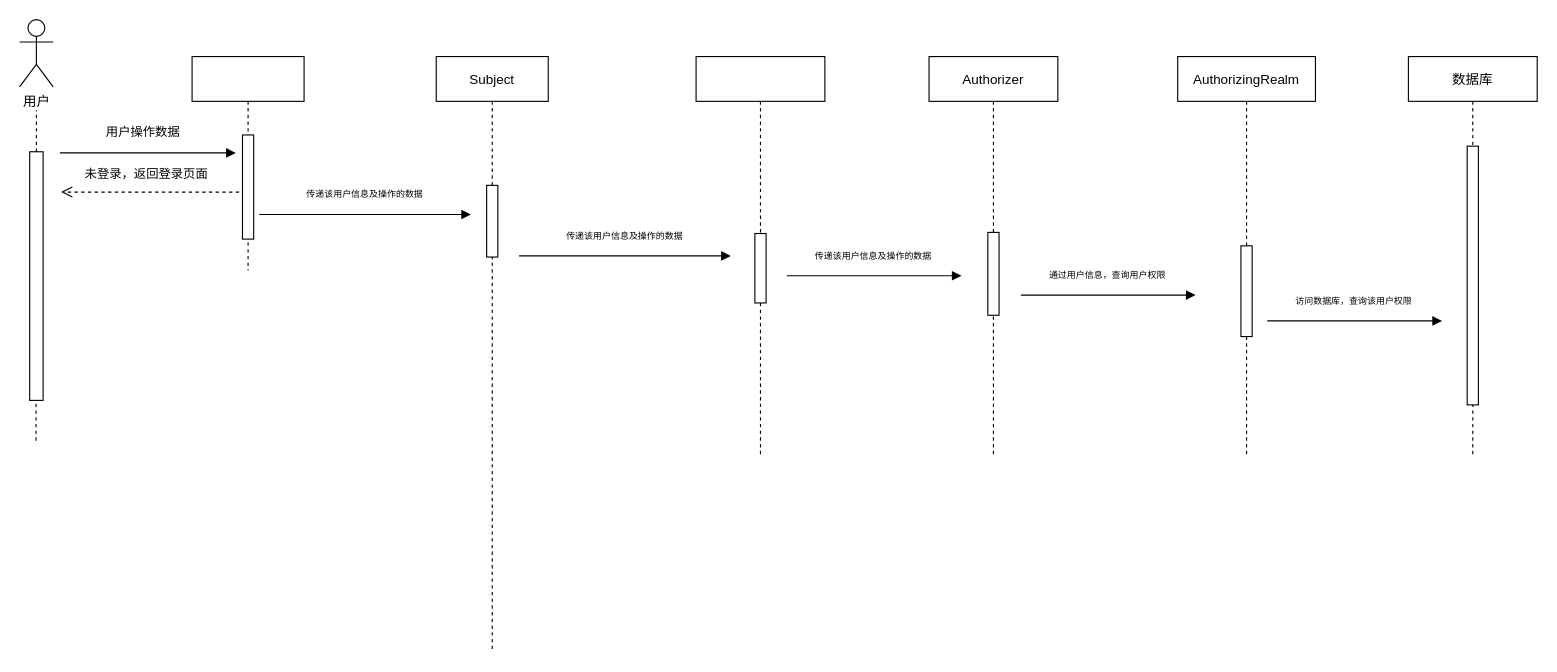
Some shapes in this 1557 by 672 pixel diagram are drawn without their labels. Each missing label, with the centre of its shape:
Controller: pixel 247 162
SecurityManager: pixel 760 256
